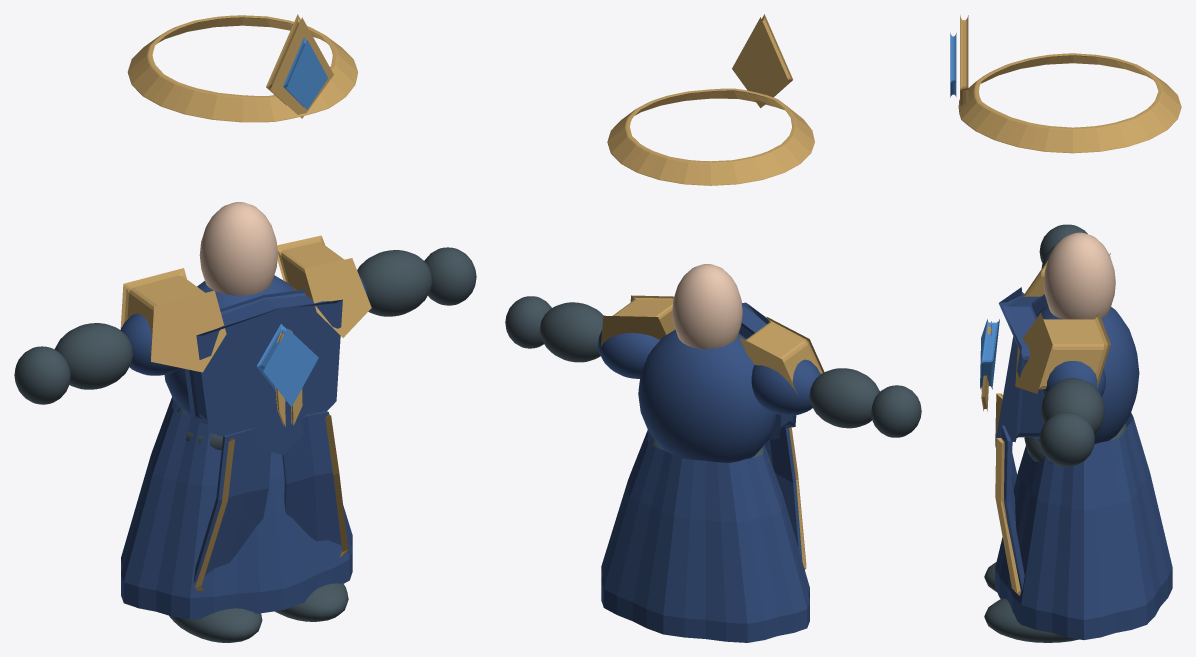
File: mage-oath-v1.glb
The picture shows the model from 3 angles, left to right: view 1: azimuth 30°, elevation 25°; view 2: azimuth 150°, elevation 25°; view 3: azimuth 270°, elevation 25°; orthographic projection. The views are drawn at different scales.
Visible parts, largest first — view 1: TLL_hips, TLL_chest, TLL_head, TLL_upperarmr, TLL_upperarml, TLL_lowerarmr, TLL_lowerarml, TLL_handr, TLL_handl, TLL_footr, TLL_footl; view 2: TLL_hips, TLL_chest, TLL_head, TLL_upperarmr, TLL_upperarml, TLL_lowerarmr, TLL_lowerarml, TLL_handr, TLL_handl; view 3: TLL_hips, TLL_chest, TLL_head, TLL_upperarml, TLL_handl, TLL_lowerarml, TLL_footl, TLL_handr, TLL_upperarmr.
Part boxes in pixels (box(x1,y1,x2,y2)): TLL_hips: box(121, 397, 352, 619); TLL_chest: box(164, 202, 342, 455); TLL_head: box(127, 14, 357, 122); TLL_upperarmr: box(120, 268, 226, 375); TLL_upperarml: box(277, 235, 371, 337); TLL_lowerarmr: box(54, 323, 132, 389); TLL_lowerarml: box(357, 250, 432, 316); TLL_handr: box(14, 346, 70, 404); TLL_handl: box(424, 247, 476, 305); TLL_footr: box(169, 608, 262, 642); TLL_footl: box(275, 583, 348, 621); TLL_hips: box(601, 427, 809, 642); TLL_chest: box(638, 264, 796, 462); TLL_head: box(607, 14, 814, 185); TLL_upperarmr: box(739, 317, 824, 415); TLL_upperarml: box(598, 295, 675, 378); TLL_lowerarmr: box(809, 368, 879, 428); TLL_lowerarml: box(539, 302, 603, 362); TLL_handr: box(871, 385, 921, 437); TLL_handl: box(505, 296, 551, 348); TLL_hips: box(995, 393, 1172, 639); TLL_chest: box(980, 232, 1139, 444); TLL_head: box(950, 15, 1181, 153); TLL_upperarml: box(1015, 313, 1110, 396); TLL_handl: box(1039, 412, 1094, 466); TLL_lowerarml: box(1041, 378, 1104, 434); TLL_footl: box(984, 598, 1079, 642); TLL_handr: box(1039, 224, 1087, 262); TLL_upperarmr: box(1023, 253, 1110, 303).
Bounding box in the file's own units: 1.79 × 2.4 × 0.8344.
